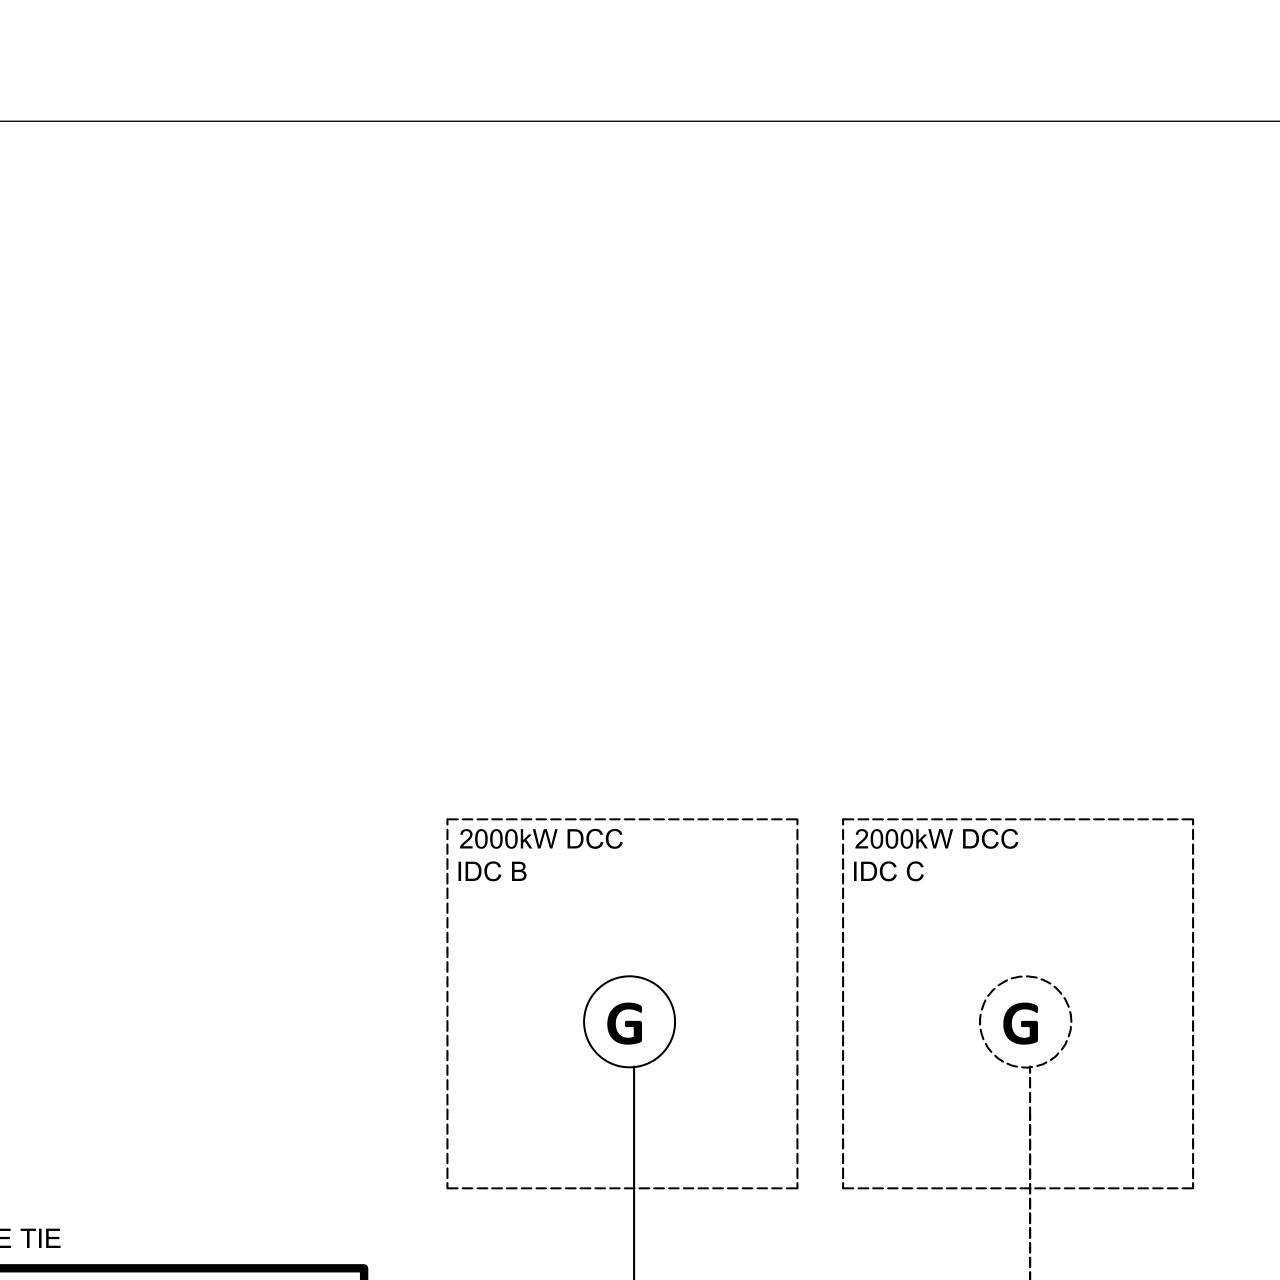Generator: (565, 968, 693, 1083), (962, 967, 1085, 1081)
